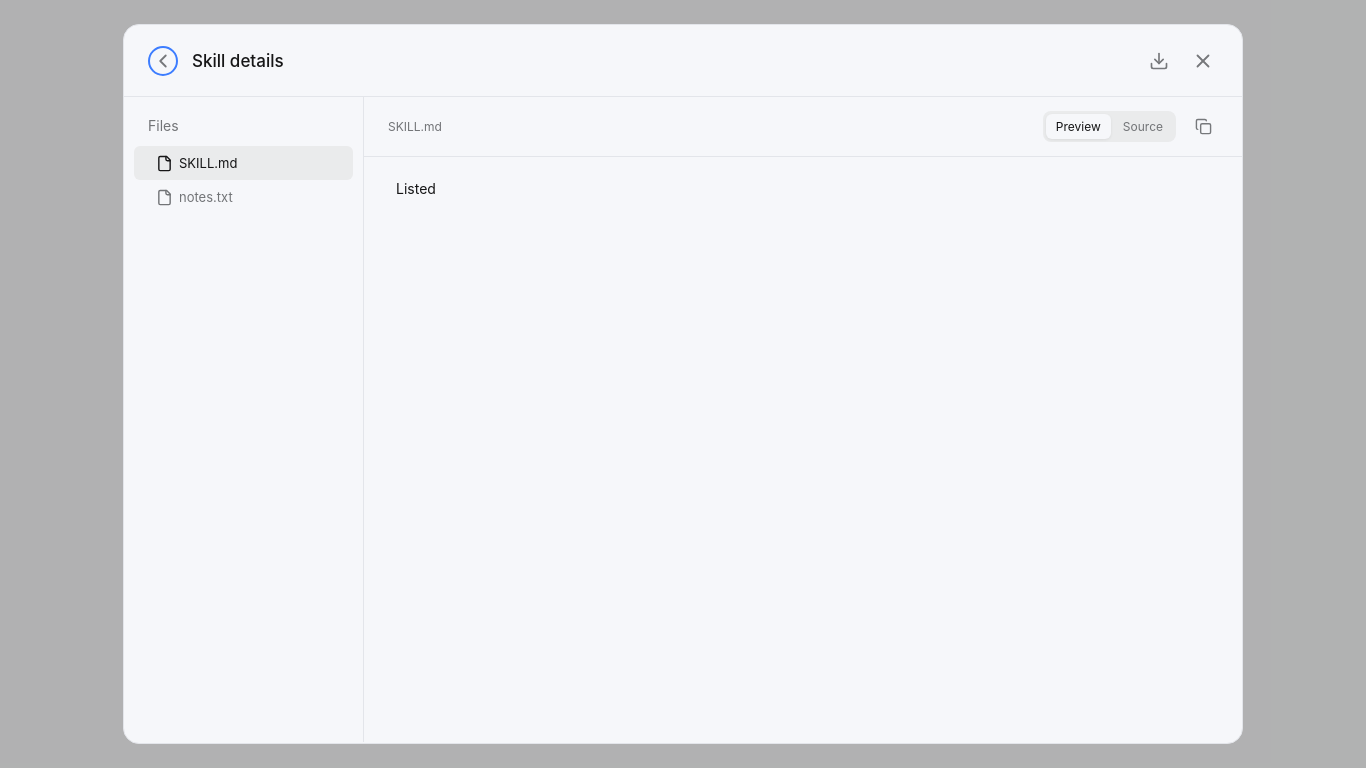
loads resource files that the app snapshot left out
Click the button titled "notes.txt" at (244, 197), box [134,180,353,214]
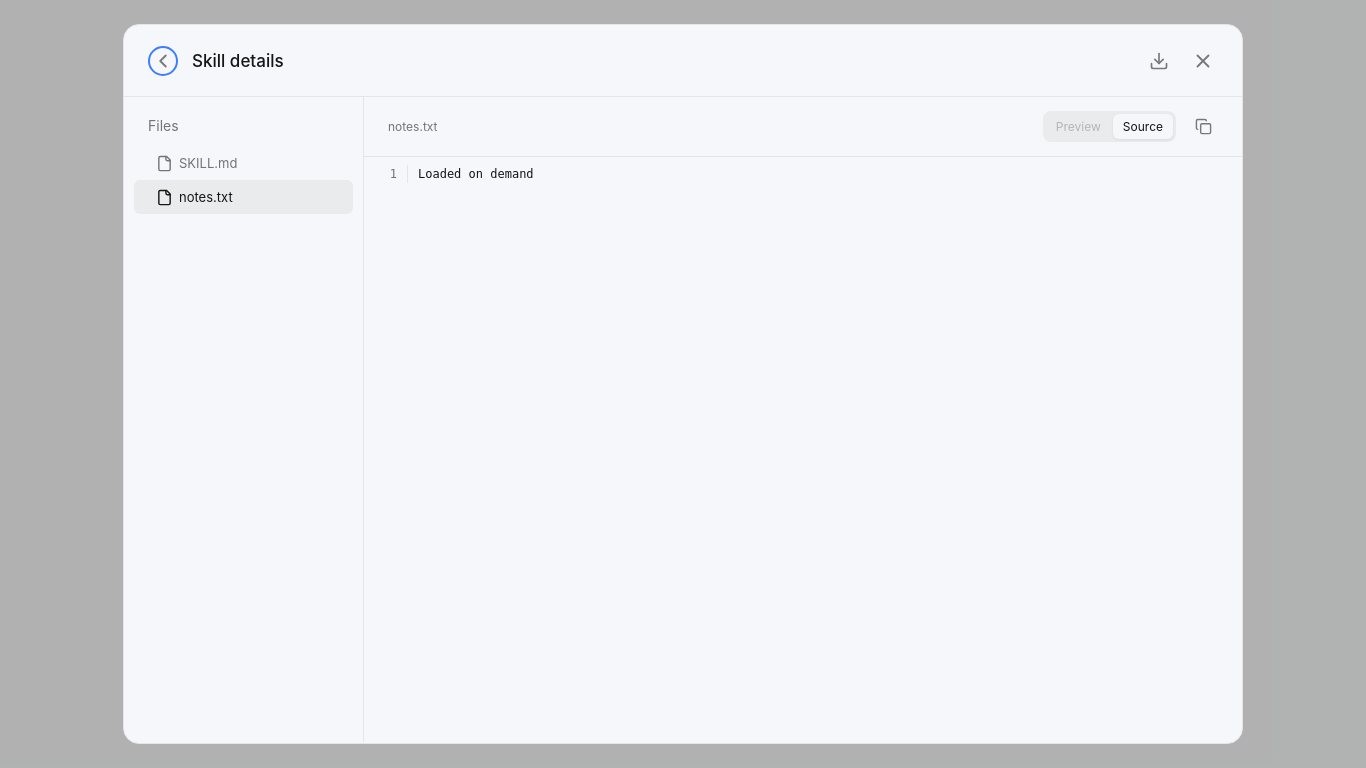
Result: the element with class "skill-file-preview" reads "Loaded on demand" at [418,167,534,181]
